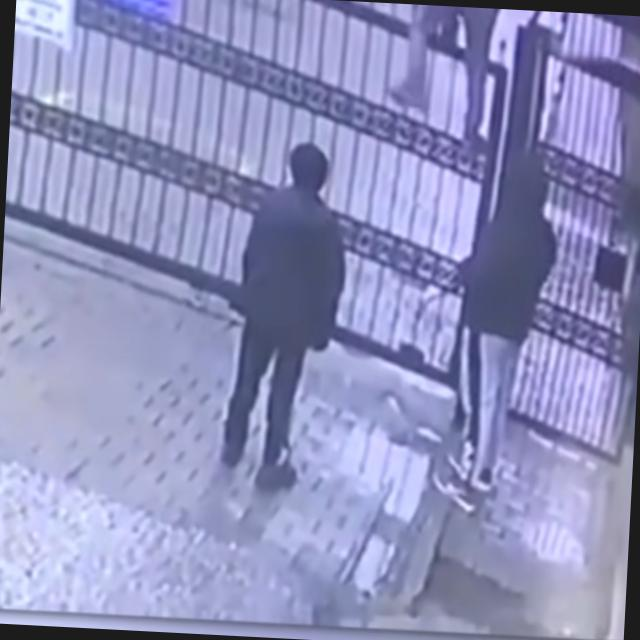person: (218, 138, 352, 494), (433, 154, 562, 516), (386, 5, 500, 144)
